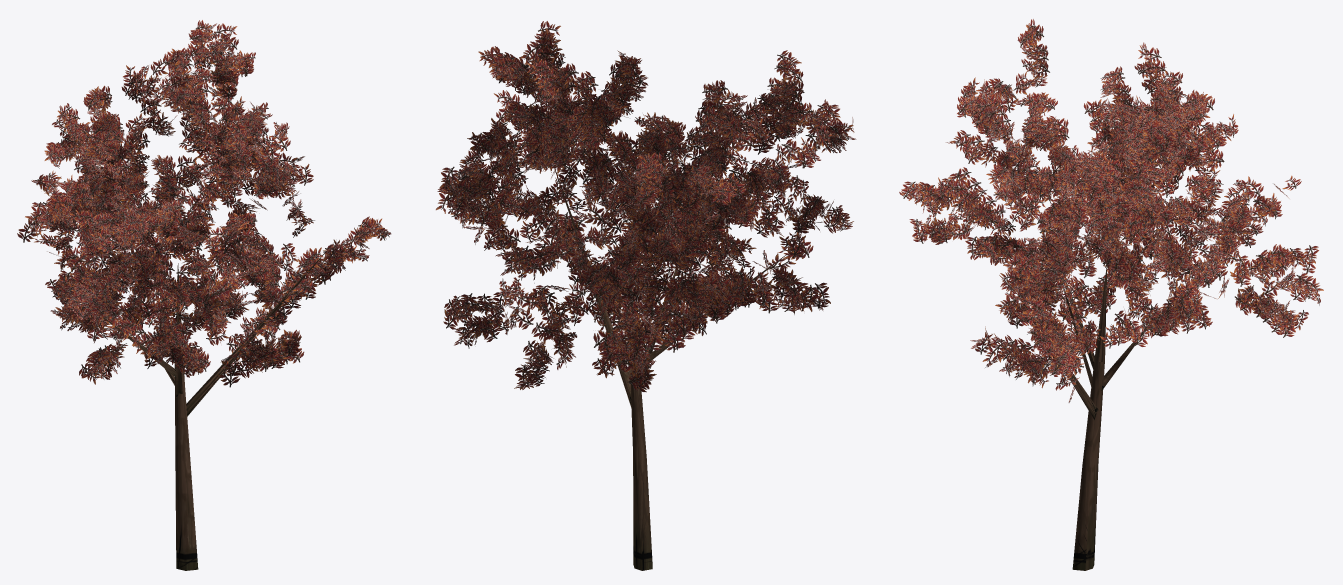
The model's file is rBTreeNew 1.fbx.
3 views of the same model, side by side, from view 1: azimuth 30°, elevation 25°; view 2: azimuth 150°, elevation 25°; view 3: azimuth 270°, elevation 25° (orthographic). The views are drawn at different scales.
Visible parts, largest first — view 1: tree1, tree1.001; view 2: tree1, tree1.001; view 3: tree1, tree1.001.
Boxes of the visible parts, x1=… form: tree1: x1=17, y1=20, x2=391, y2=387; tree1.001: x1=99, y1=242, x2=334, y2=570; tree1: x1=435, y1=21, x2=856, y2=392; tree1.001: x1=552, y1=163, x2=790, y2=570; tree1: x1=899, y1=19, x2=1323, y2=402; tree1.001: x1=1018, y1=201, x2=1159, y2=570.
Size of the model in its own units: 1398 by 1844 by 1431.
